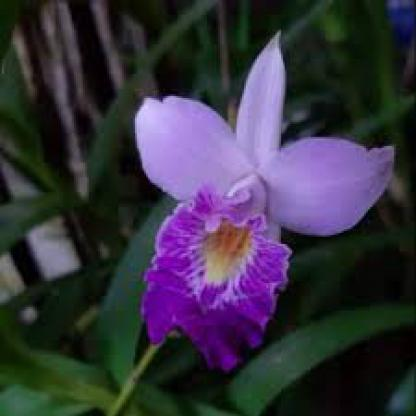ANGGREK: (112, 33, 400, 366)
